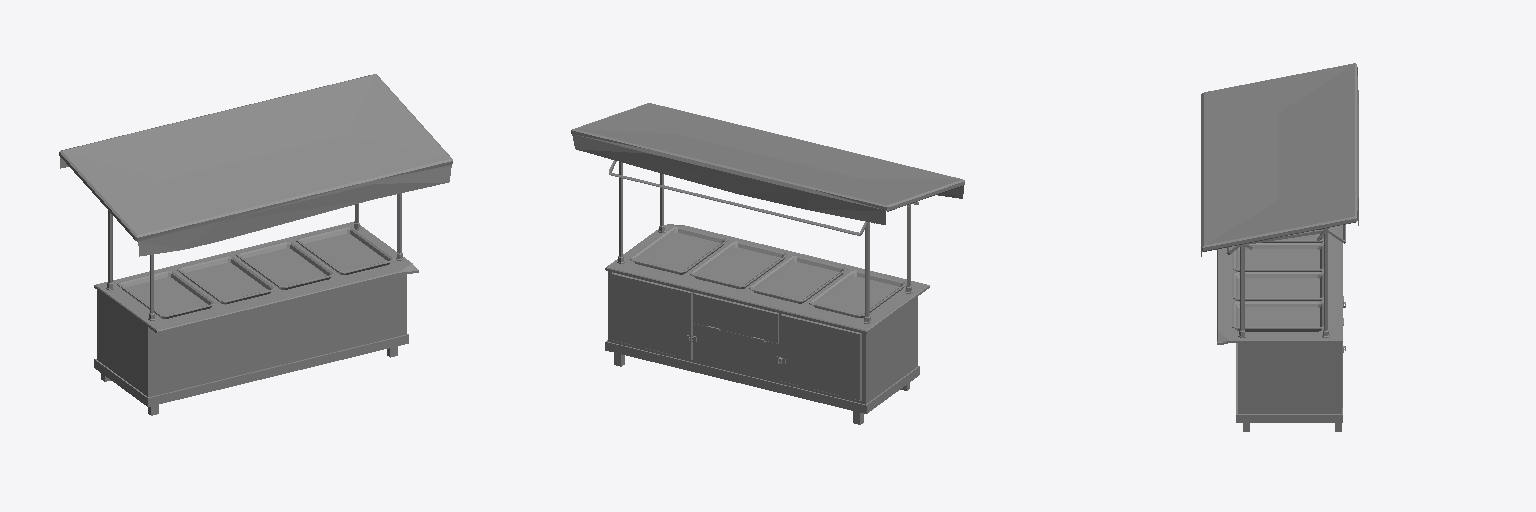
File: comex1.obj
3 renders of one model, left to right at view 1: azimuth 30°, elevation 25°; view 2: azimuth 150°, elevation 25°; view 3: azimuth 270°, elevation 25°, orthographic.
Visible parts, largest first — view 1: city_stall01; view 2: city_stall01; view 3: city_stall01.
Part boxes in pixels (x1,y1,x2,y2): city_stall01: (59, 74, 452, 415); city_stall01: (571, 103, 964, 424); city_stall01: (1201, 63, 1358, 431).
Bounding box in the file's own units: 33.72 × 23.55 × 14.6.